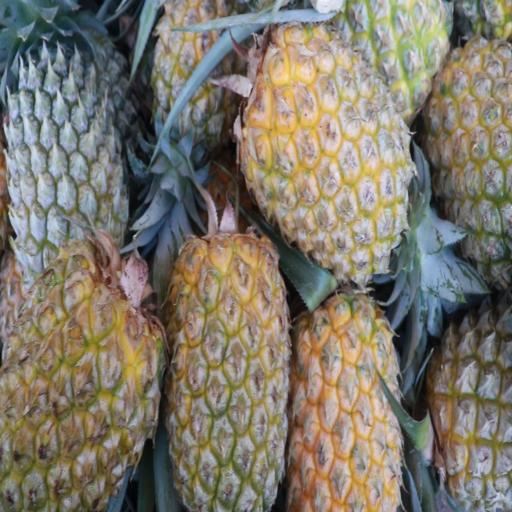------------------------------: (423, 293, 512, 507), (430, 36, 512, 256), (159, 0, 252, 149)
Pineapple - v8 v1: (0, 249, 170, 512), (247, 12, 412, 272), (170, 235, 286, 508), (291, 293, 398, 512), (359, 0, 456, 112)
